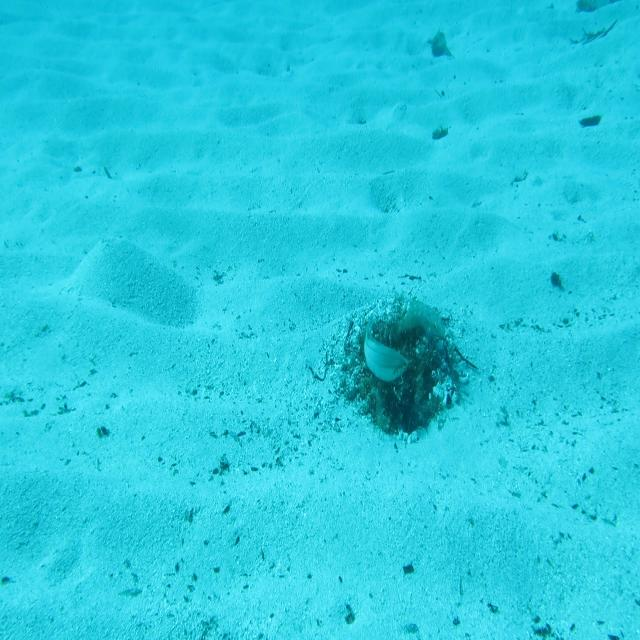SPA: (398, 293, 450, 349)
female: (361, 320, 412, 388)
nest: (338, 289, 467, 439)
